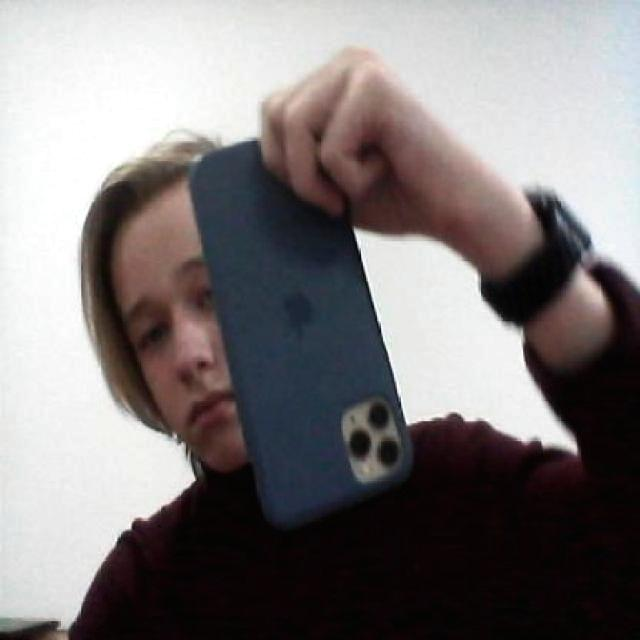phone: (183, 146, 424, 534)
